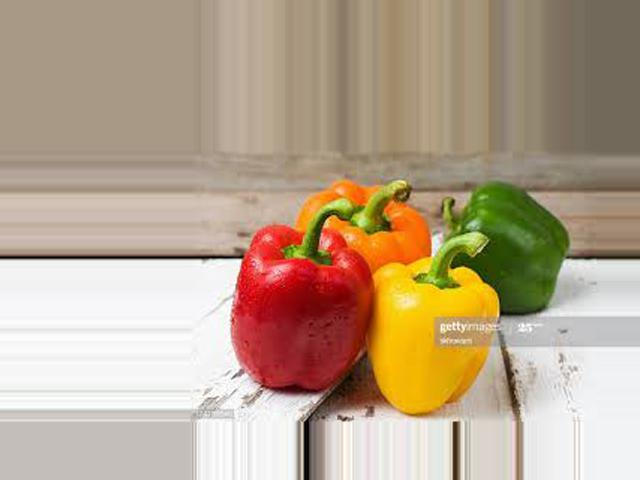bell_pepper: (294, 177, 435, 275)
